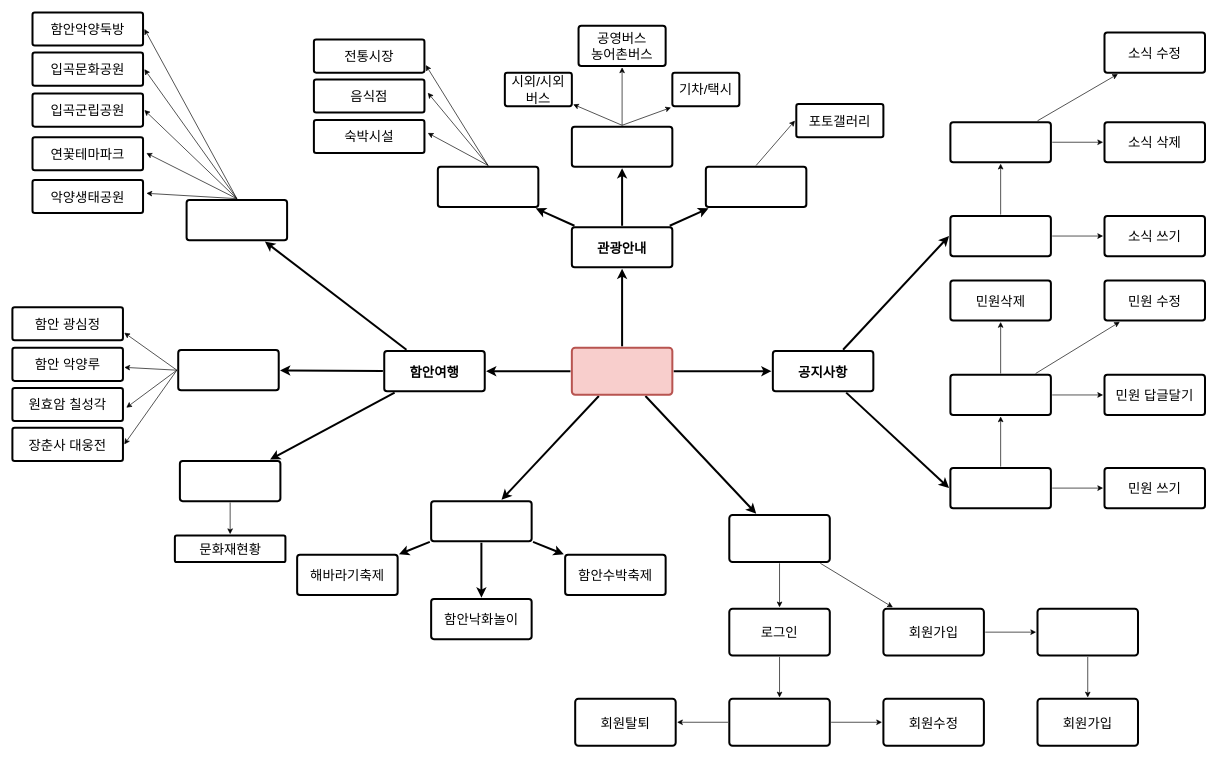
Image size: 1217x758. Some labels were removed from this diagram. The shapes that lost their labels are listed below. From the top down, each one's centre as x and y in pixels, then its label:
At (622,146): "교통안내".
At (1000,142): "소식 상세보기".
At (488,186): "관광지도".
At (756,186): "여행갤러리".
At (236,220): "생태관광".
At (1000,236): "함안소식".
At (228,370): "역사여행".
At (622,370): "함안문화관광".
At (1000,395): "민원 자세히".
At (230,481): "문화재".
At (1000,488): "고객민원".
At (481,521): "축제행사".
At (779,538): "회원기능".
At (1087,631): "약관동의".
At (779,721): "마이페이지".
